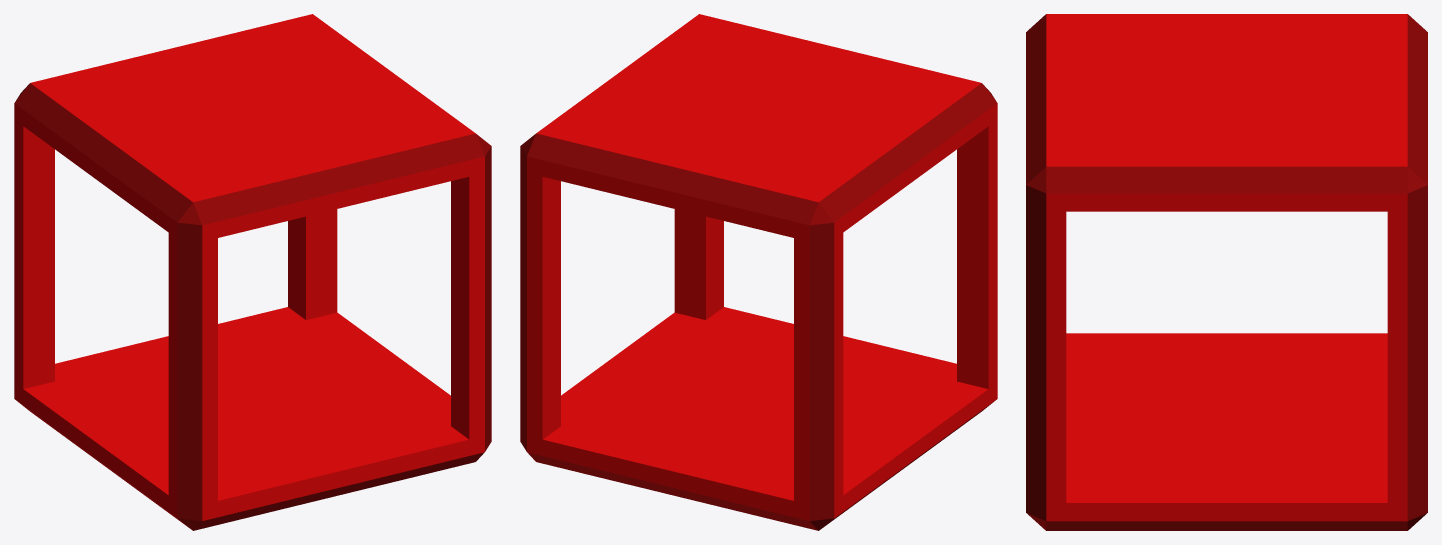
Rendered from 01_end_block.glb.
3 renders of one model, left to right at view 1: azimuth 30°, elevation 25°; view 2: azimuth 150°, elevation 25°; view 3: azimuth 270°, elevation 25°, orthographic. The views are drawn at different scales.
Parts seen in each view (by area): view 1: 01-end-block; view 2: 01-end-block; view 3: 01-end-block.
Part boxes in pixels (x1,y1,x2,y2): 01-end-block: (14, 14, 491, 530); 01-end-block: (520, 14, 997, 530); 01-end-block: (1026, 14, 1427, 530).
Size of the model in its own units: 2 by 2 by 2.
